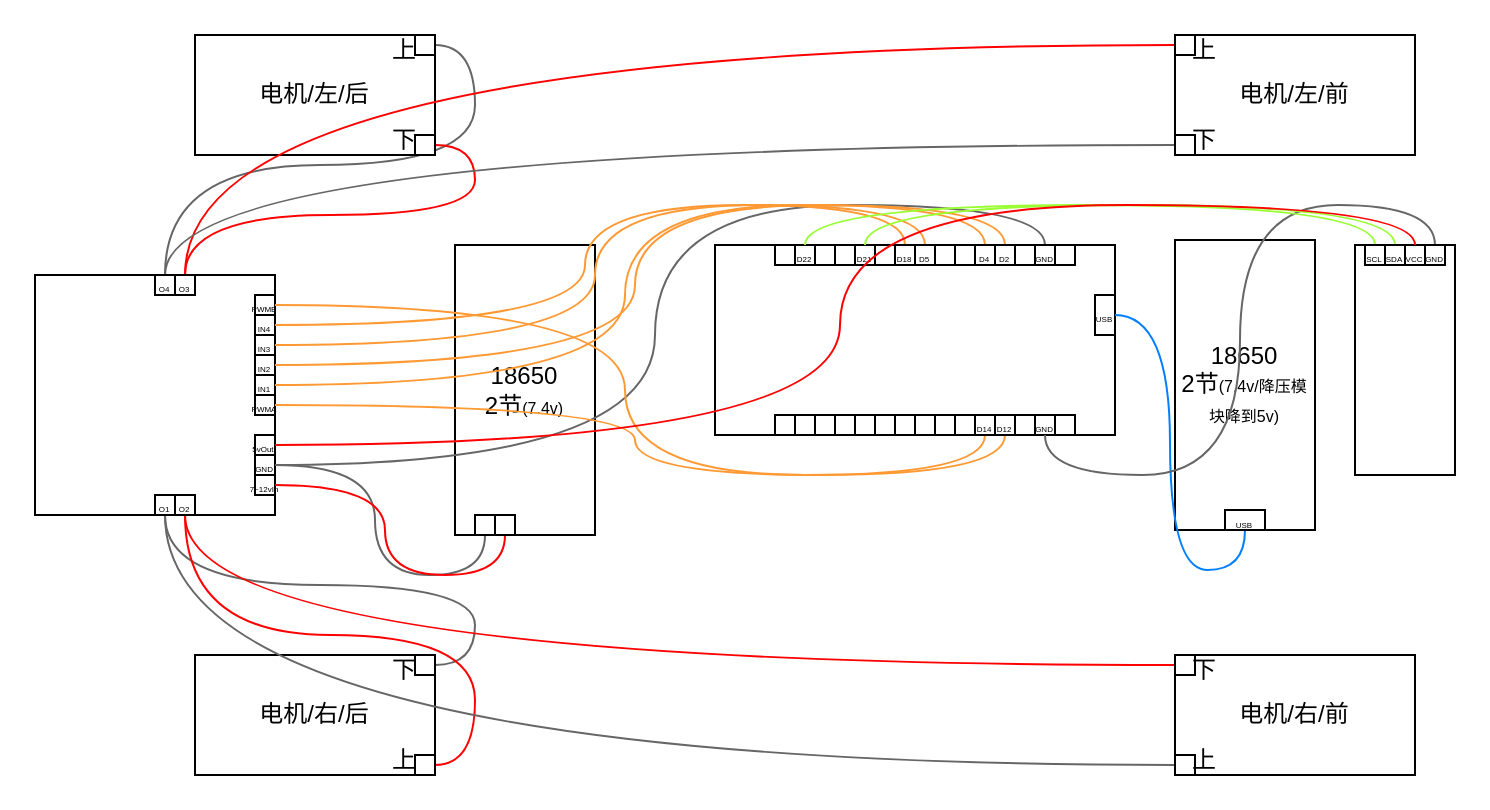
The diagram is 1490 pixels wide and 810 high, and some of its shapes have lost their labels. Each missing label, with the box of its shape:
ESP32: (713, 243, 1115, 435)
L298N: (33, 273, 275, 515)
LCD1602: (1353, 243, 1455, 475)
